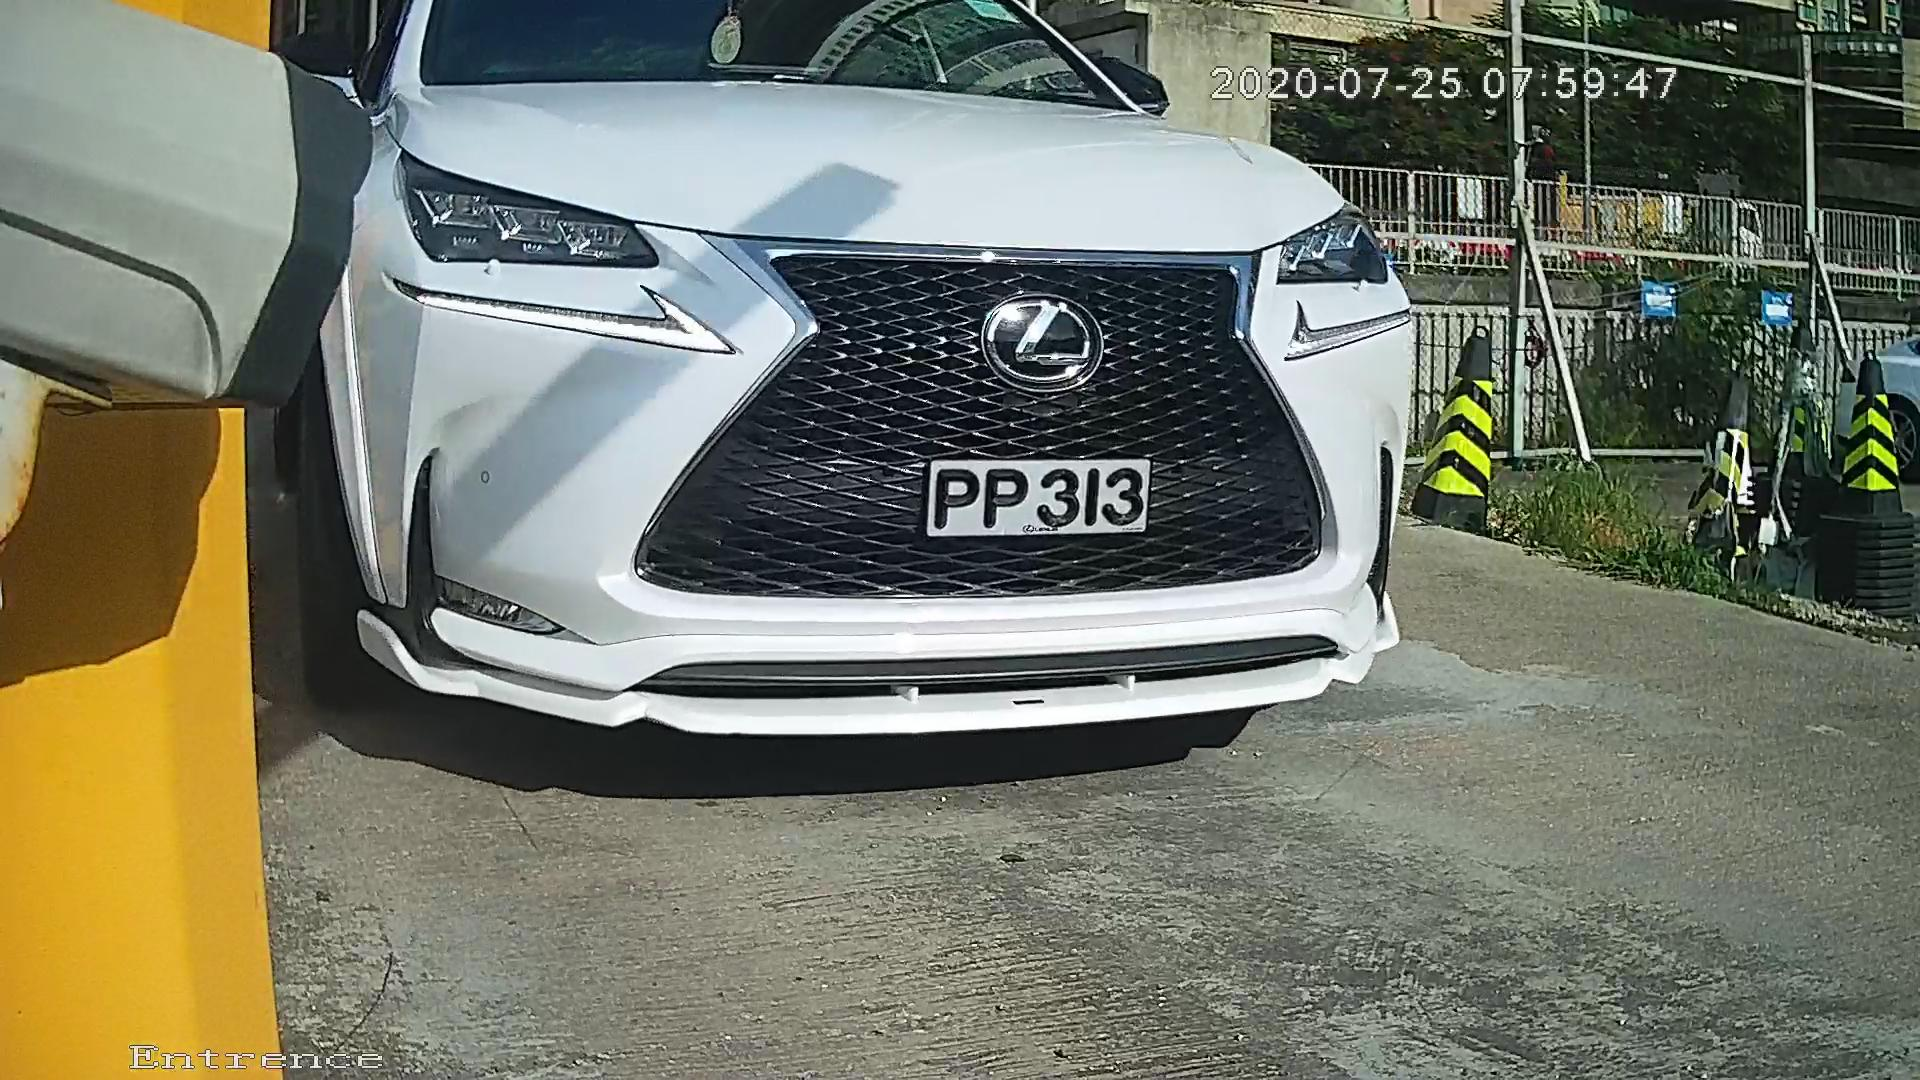License Plate: (892, 434, 1183, 560)
